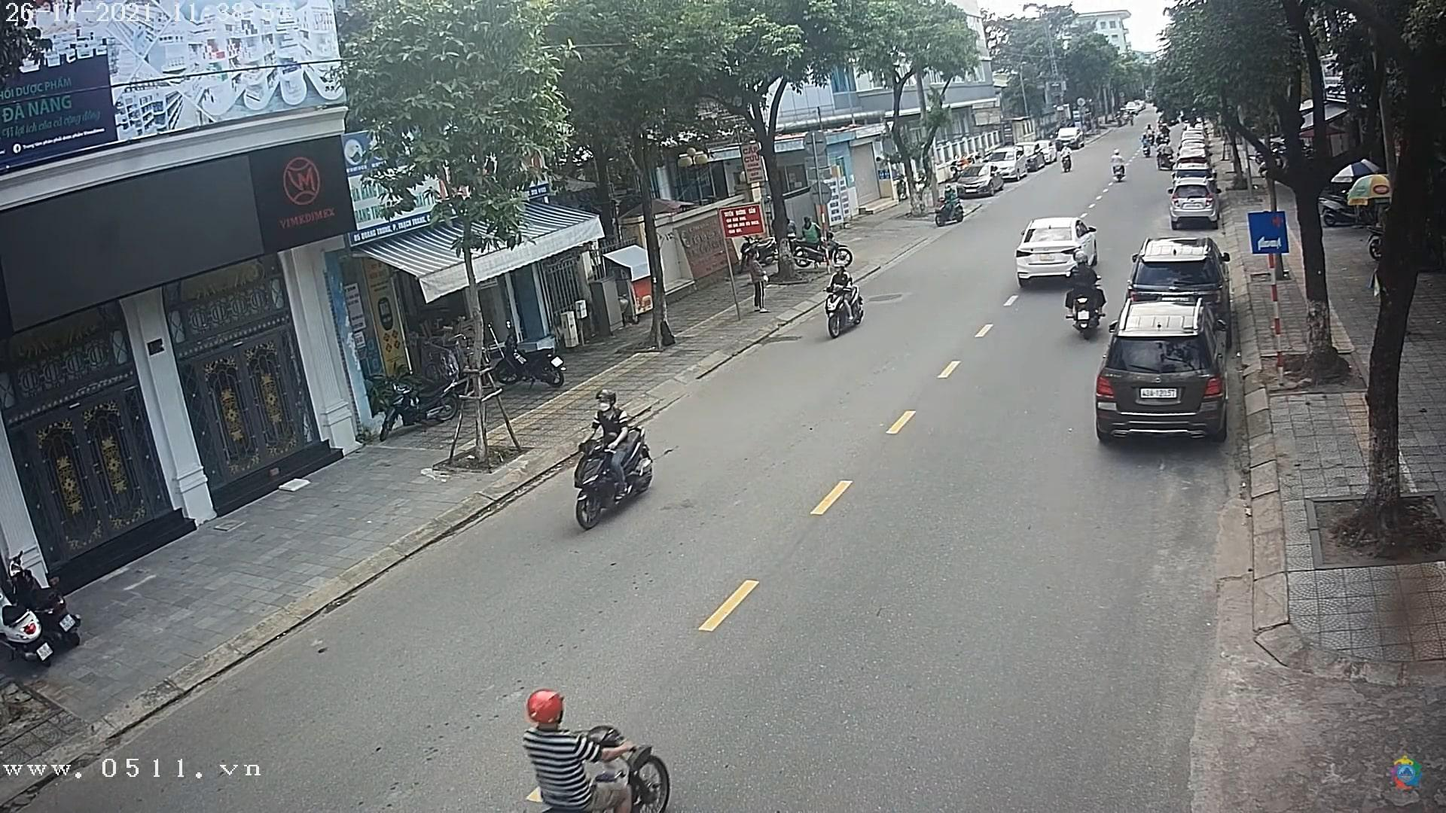car: (1096, 314, 1227, 444), (1128, 238, 1234, 306), (1014, 215, 1100, 284), (1170, 184, 1224, 230), (956, 160, 1009, 198), (1169, 160, 1213, 178)
motorbike: (577, 433, 658, 539), (1066, 285, 1105, 338), (827, 287, 867, 338)
